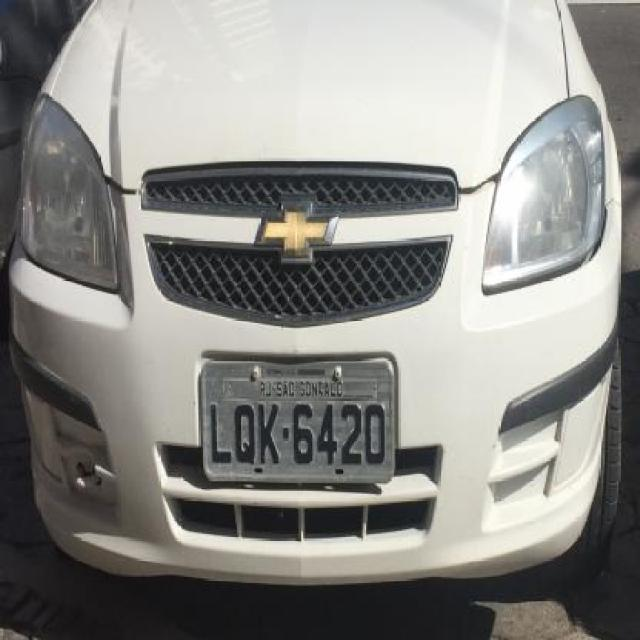old_plate: (190, 352, 401, 489)
